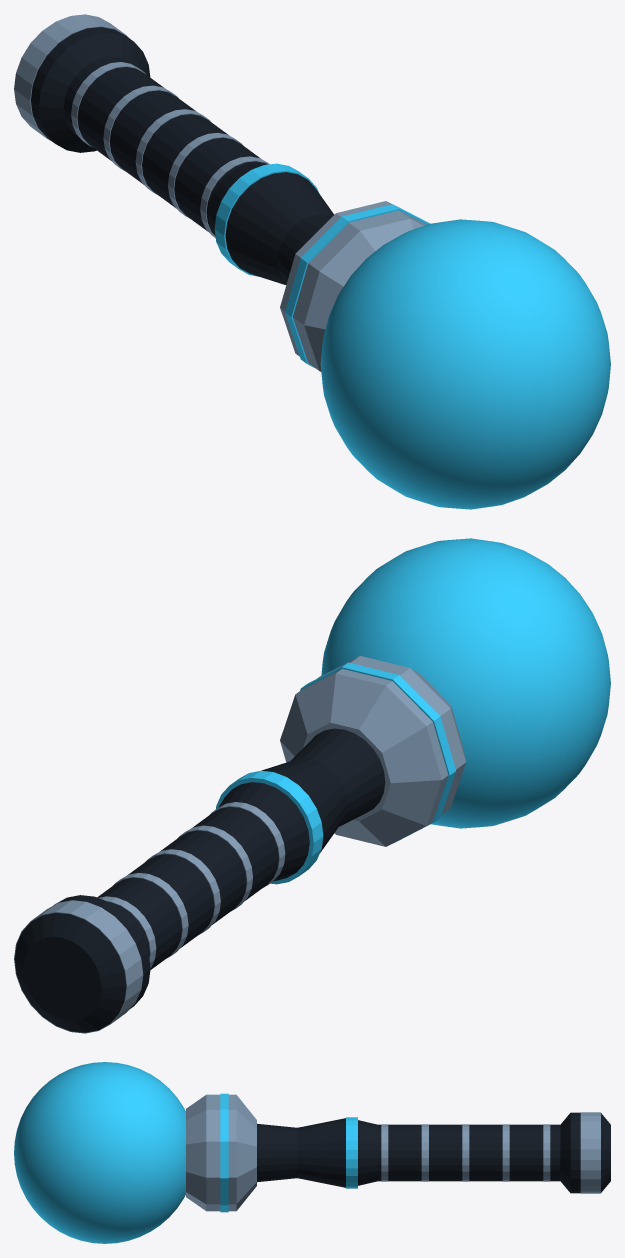
Rendered from SM_StellarShadow.obj.
3 views of the same model, one above another, from view 1: azimuth 30°, elevation 25°; view 2: azimuth 150°, elevation 25°; view 3: azimuth 270°, elevation 25° (orthographic). The views are drawn at different scales.
Visible parts, largest first — view 1: SM_StellarShadow; view 2: SM_StellarShadow; view 3: SM_StellarShadow.
Boxes of the visible parts, left/top/right/bottom form: SM_StellarShadow: left=14, top=14, right=610, bottom=509; SM_StellarShadow: left=14, top=538, right=610, bottom=1033; SM_StellarShadow: left=14, top=1062, right=610, bottom=1243.
Size of the model in its own units: 18 by 18 by 59.
